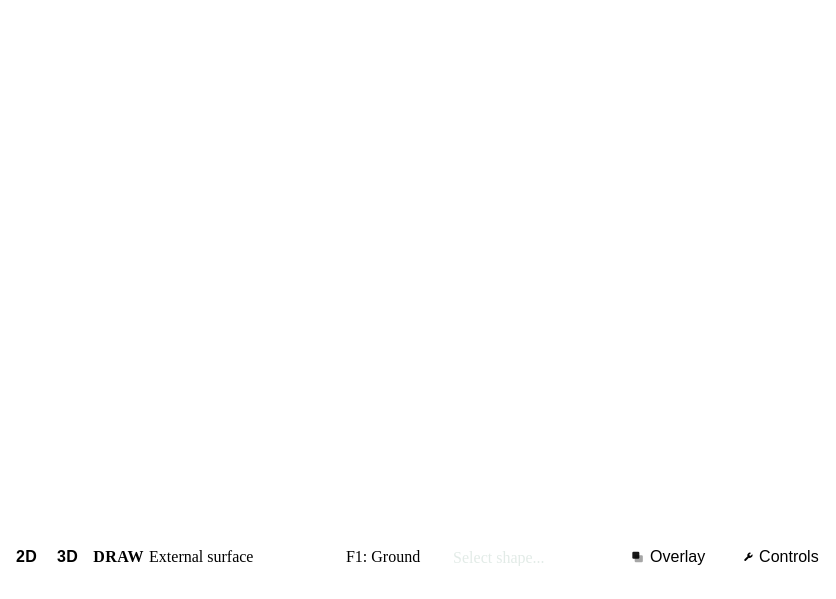
DrawToolbar service-line modes › keeps WaterPipework available in FHS draw type selector
This screenshot has width=836, height=599.
Click the button with aria-label "Element type for new drawings". click: (231, 557)
box: [149, 547, 313, 567]
(page scrolled)
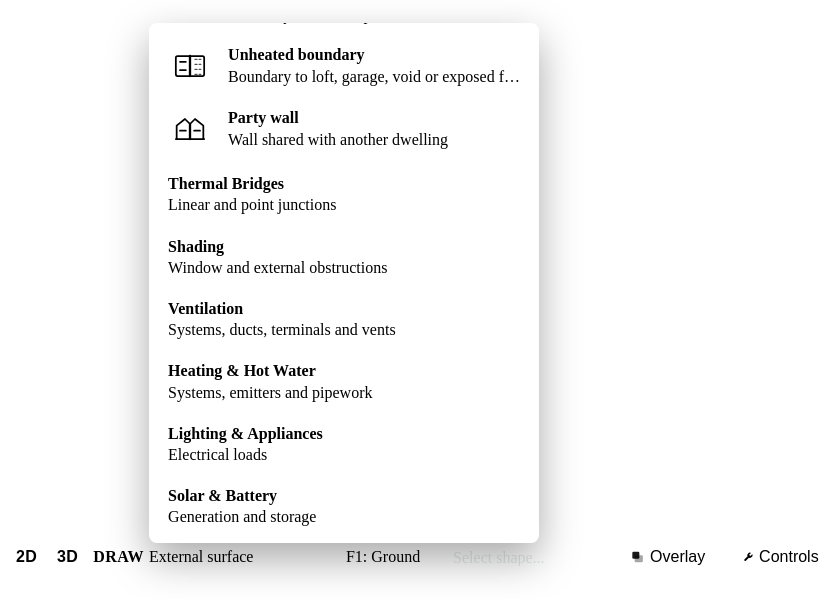
Click the button "Heating & Hot Water Systems, emitters and pipework". click: (344, 382)
box: [157, 352, 531, 411]
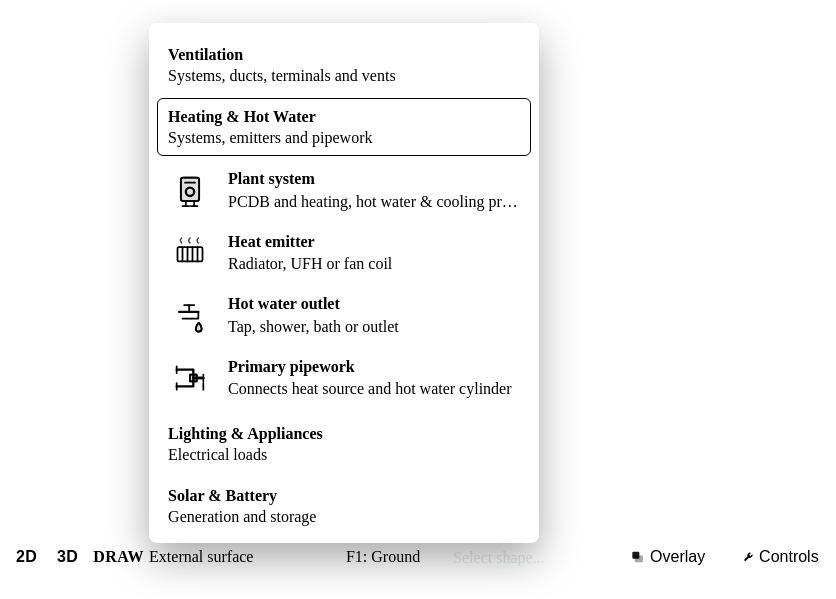
expect the option "Primary pipework Connects heat source and hot water cylinder" is shown: met, box [157, 350, 531, 407]
